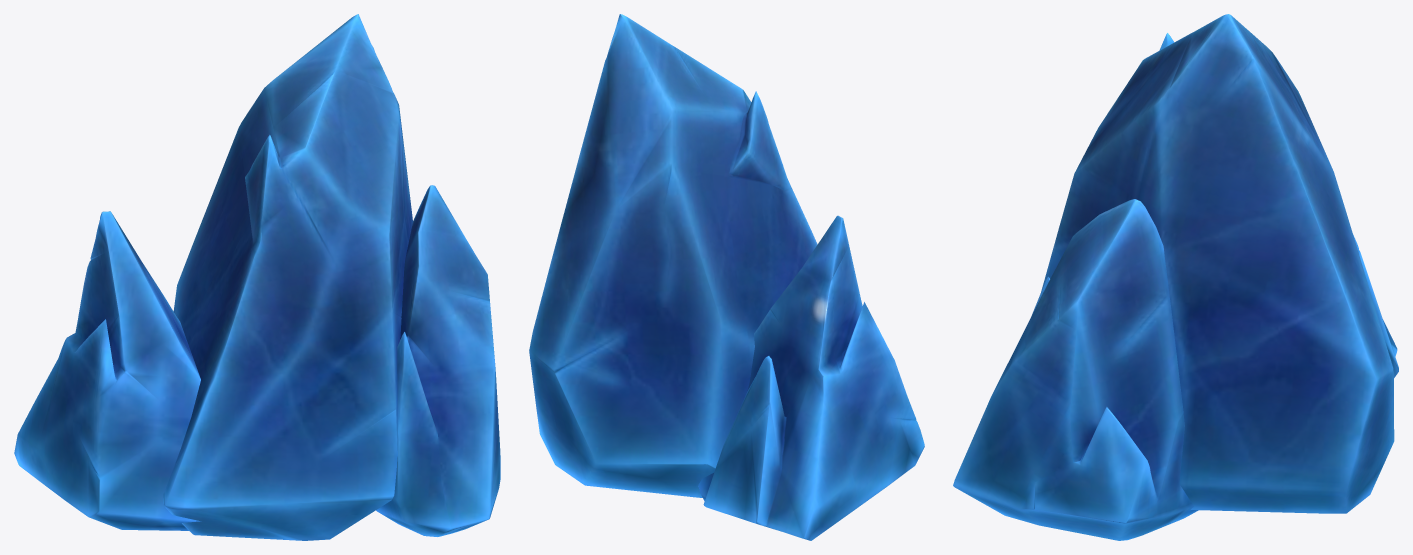
Rendered from glacia_shard_mid_a_lite.glb.
3 views of the same model, side by side, from view 1: azimuth 30°, elevation 25°; view 2: azimuth 150°, elevation 25°; view 3: azimuth 270°, elevation 25° (orthographic). The views are drawn at different scales.
Parts seen in each view (by area): view 1: SM_GLCA_STS_IceSplinter_02A; view 2: SM_GLCA_STS_IceSplinter_02A; view 3: SM_GLCA_STS_IceSplinter_02A.
Boxes of the visible parts, <box> form: SM_GLCA_STS_IceSplinter_02A: <box>14,14,500,540</box>; SM_GLCA_STS_IceSplinter_02A: <box>529,14,924,540</box>; SM_GLCA_STS_IceSplinter_02A: <box>953,14,1398,540</box>.
Bounding box in the file's own units: 10.3 × 12.08 × 9.57.
1 material, 1 textured.
